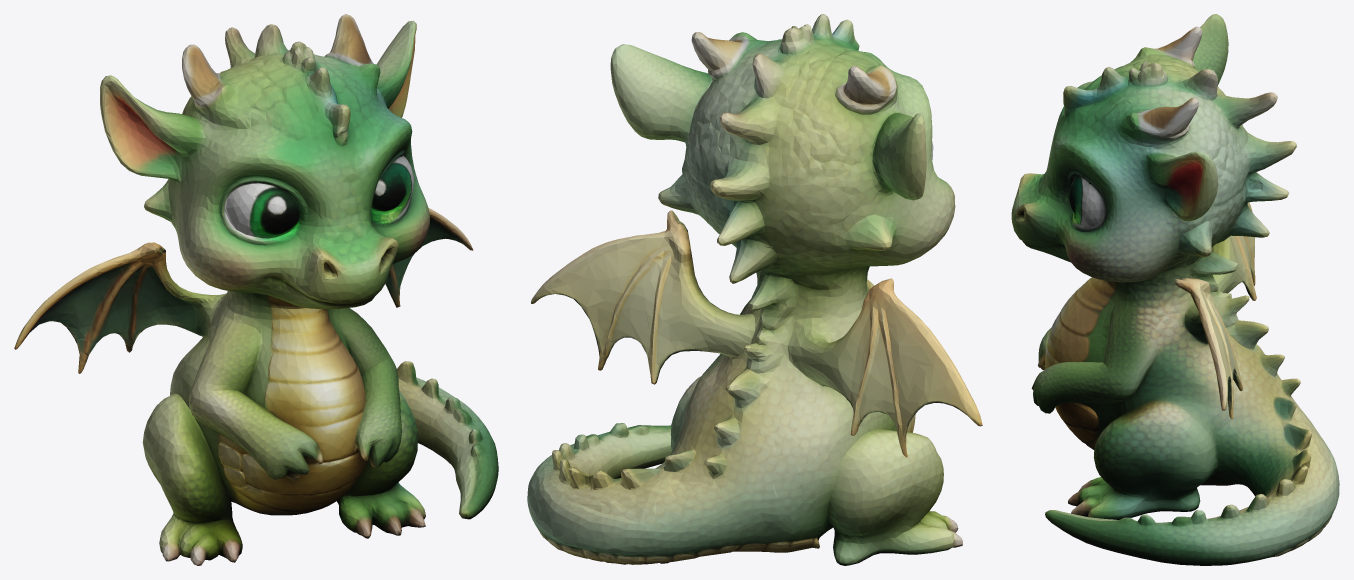
The model's file is baby_emerald_dragon.glb.
The picture shows the model from 3 angles, left to right: view 1: azimuth 30°, elevation 25°; view 2: azimuth 150°, elevation 25°; view 3: azimuth 270°, elevation 25°; orthographic projection. The views are drawn at different scales.
Parts seen in each view (by area): view 1: world; view 2: world; view 3: world.
Part boxes in pixels (x1,y1,x2,y2): world: (14, 14, 498, 565); world: (527, 14, 982, 565); world: (1011, 14, 1339, 565).
Size of the model in its own units: 0.9867 by 1 by 0.7082.
1 material, 1 textured.
